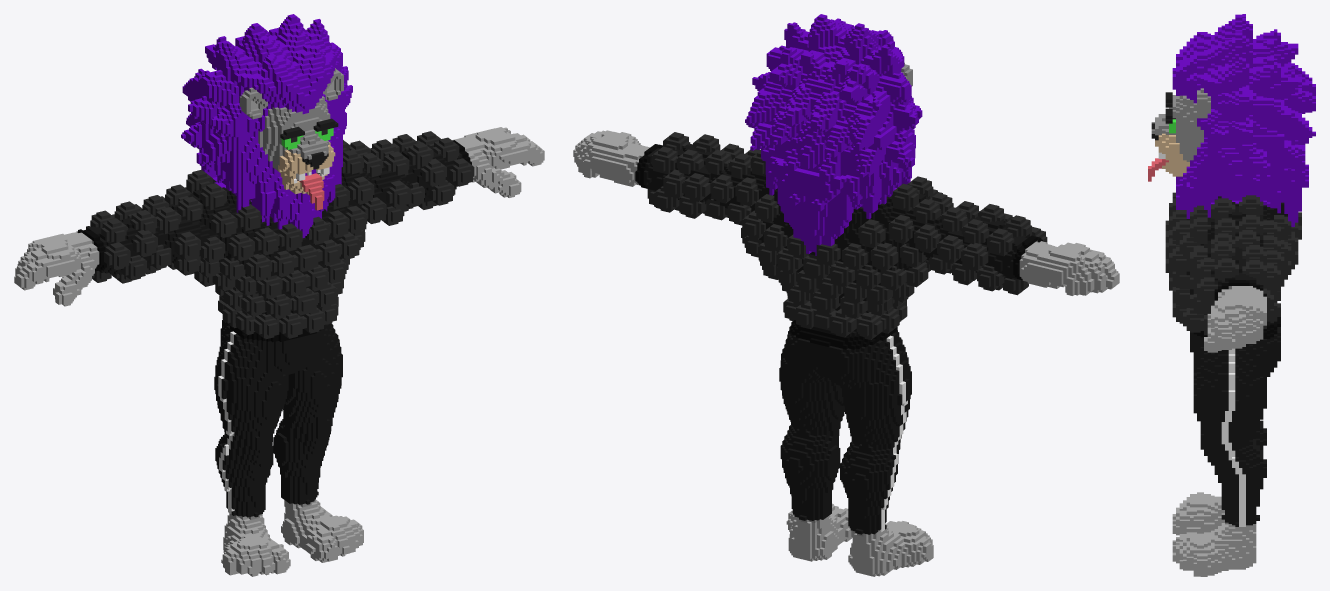
3 renders of one model, left to right at view 1: azimuth 30°, elevation 25°; view 2: azimuth 150°, elevation 25°; view 3: azimuth 270°, elevation 25°, orthographic. The views are drawn at different scales.
Visible parts, largest first — view 1: tongue_out; view 2: tongue_out; view 3: tongue_out.
Part boxes in pixels (x1,y1,x2,y2): tongue_out: [14, 14, 544, 576]; tongue_out: [573, 14, 1119, 576]; tongue_out: [1148, 14, 1315, 576].
Bounding box in the file's own units: 17.2 × 16.5 × 4.8.
Materials: 5 (5 with a texture image).
